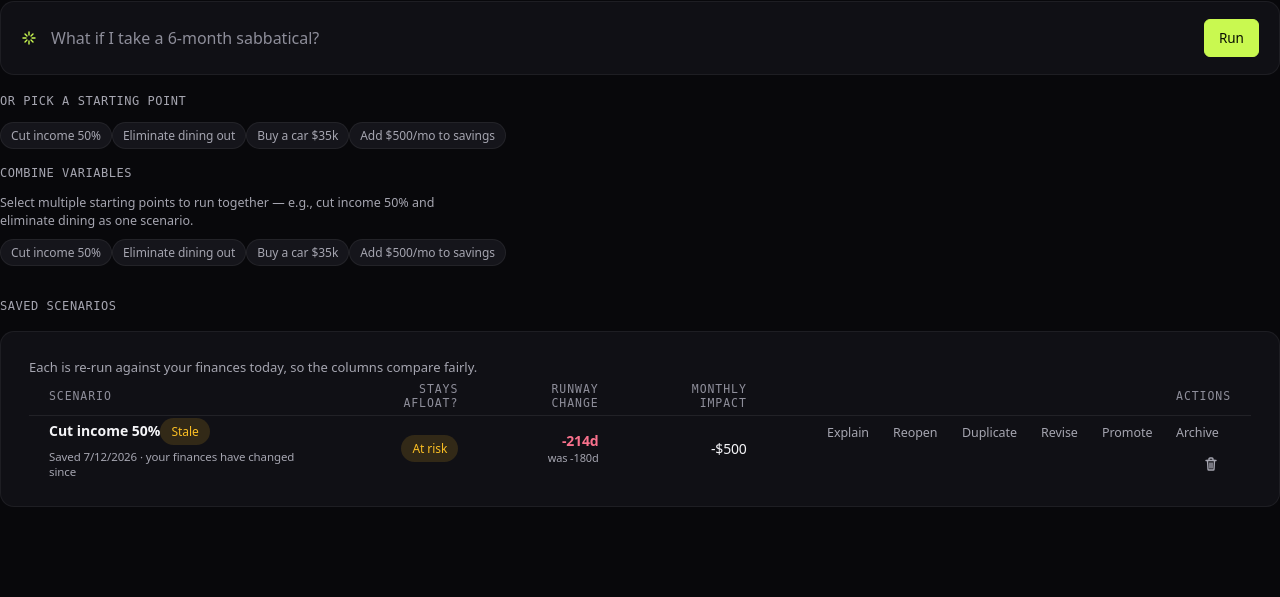
Test: Scenarios screen › applies only the approved applyable changes to the plan and reports the outcome (#72)
Click the button "Promote": (1127, 432) [1090,416,1164,448]
(page scrolled)
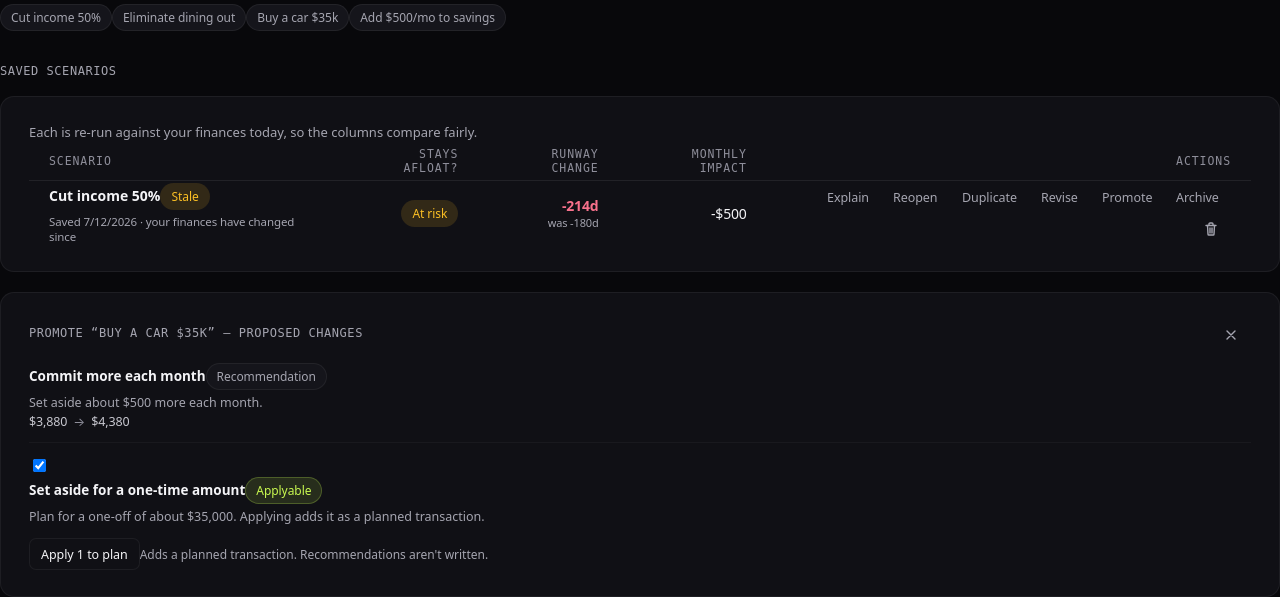
Click the button "Apply 1 to plan": (84, 554) [29,538,140,570]
(page scrolled)
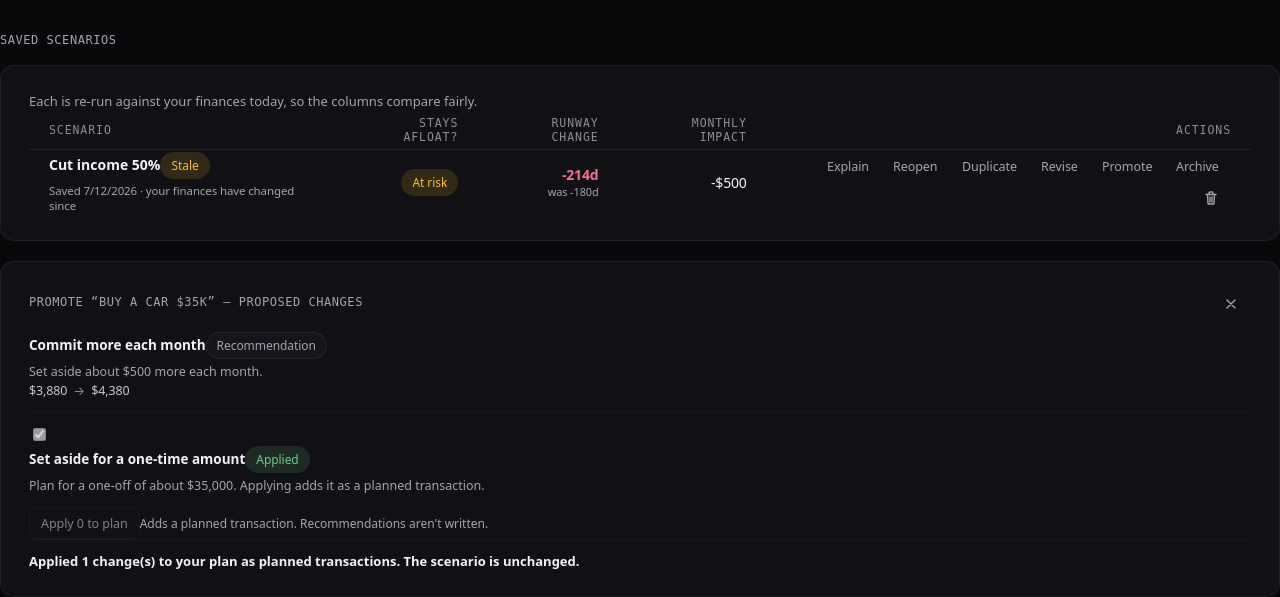
Now the text "Applied 1 change" is shown, box [29,552,580,570]
